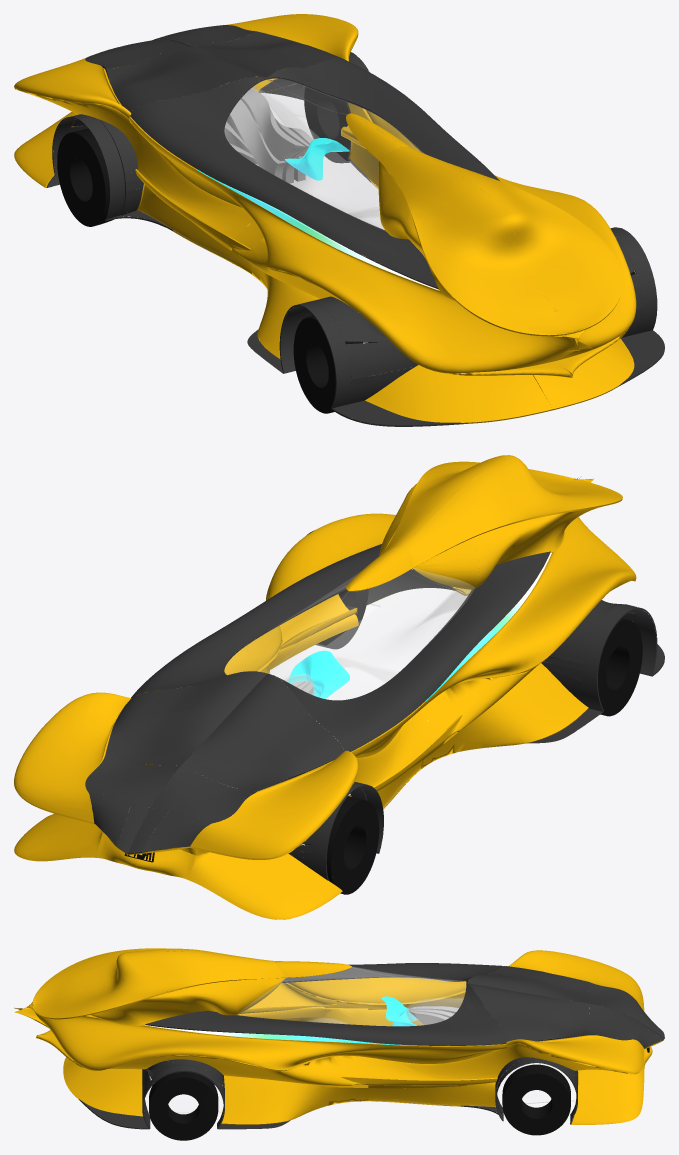
The model's file is XYZ008-golds-v3.glb.
3 views of the same model, one above another, from view 1: azimuth 30°, elevation 25°; view 2: azimuth 150°, elevation 25°; view 3: azimuth 270°, elevation 25° (orthographic). The views are drawn at different scales.
Visible parts, largest first — view 1: ARAC, Merged Objects 7, Merged Objects 8; view 2: ARAC, Merged Objects 7, Merged Objects 8; view 3: ARAC, Merged Objects 7, Merged Objects 8.
Boxes of the visible parts, left/top/right/bottom form: ARAC: left=14, top=14, right=664, bottom=426; Merged Objects 7: left=57, top=87, right=635, bottom=413; Merged Objects 8: left=196, top=138, right=438, bottom=289; ARAC: left=14, top=455, right=664, bottom=919; Merged Objects 7: left=124, top=589, right=642, bottom=894; Merged Objects 8: left=288, top=553, right=551, bottom=701; ARAC: left=14, top=948, right=664, bottom=1129; Merged Objects 7: left=149, top=1028, right=649, bottom=1140; Merged Objects 8: left=145, top=996, right=417, bottom=1045.
Bounding box in the file's own units: 2.57 × 1.48 × 6.37.
9 materials, 1 textured.
